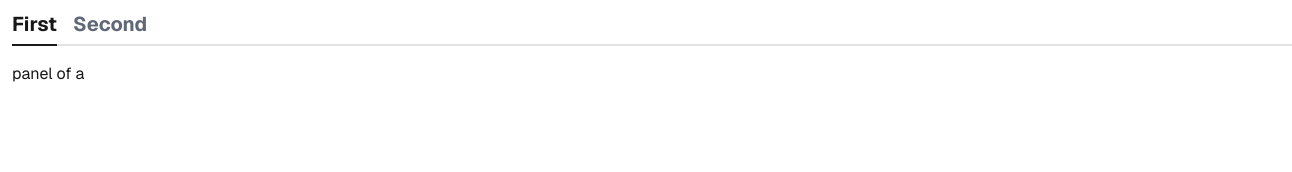
Test case: Tabs › the panel is labelled by the selected tab, and children fill it for tabs without content
Expected: the panel reads "panel of a", [12, 63, 84, 84]
Step 1. Click the tab "Second" → [110, 29], box [73, 12, 147, 46]
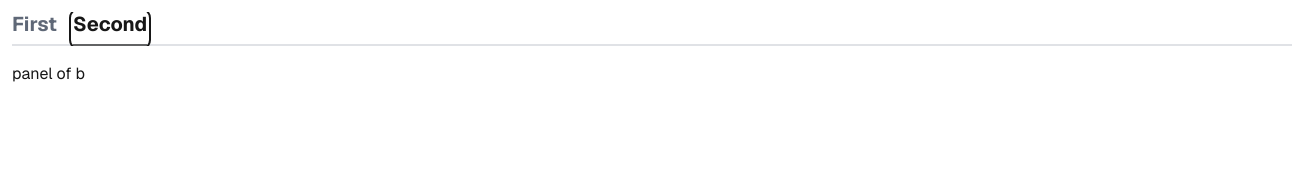
Now the panel reads "panel of b", box [12, 63, 85, 84]
